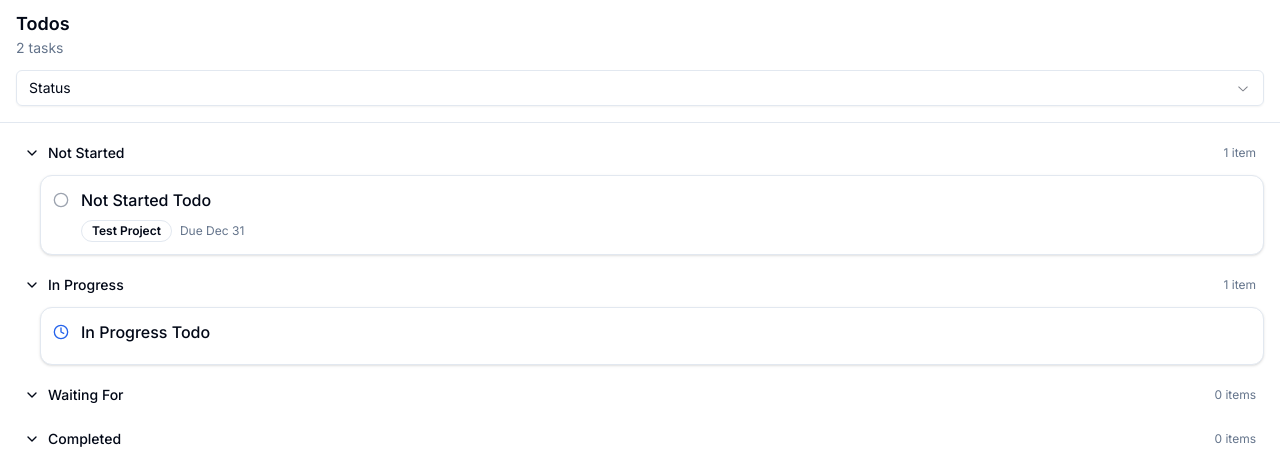
Scenario: TodoListPane - Grouping Feature › can collapse and expand groups
Expected: the heading "Not Started Todo" is shown, [81, 190, 211, 210]
// Click to collapse
What coordinates should you click on to do the following:
click the text "Not Started"
I would click on:
 (86, 153)
Its box is [48, 143, 124, 163].
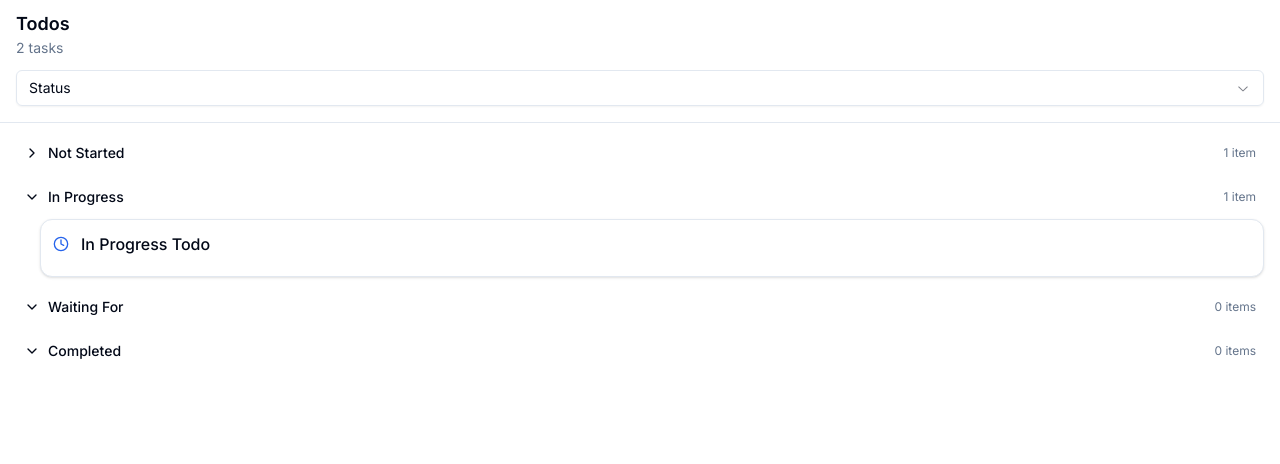
Now the heading "Not Started Todo" is gone
// Click to expand again
What coordinates should you click on to do the following:
click the text "Not Started"
I would click on:
 (86, 153)
Its box is [48, 143, 124, 163].
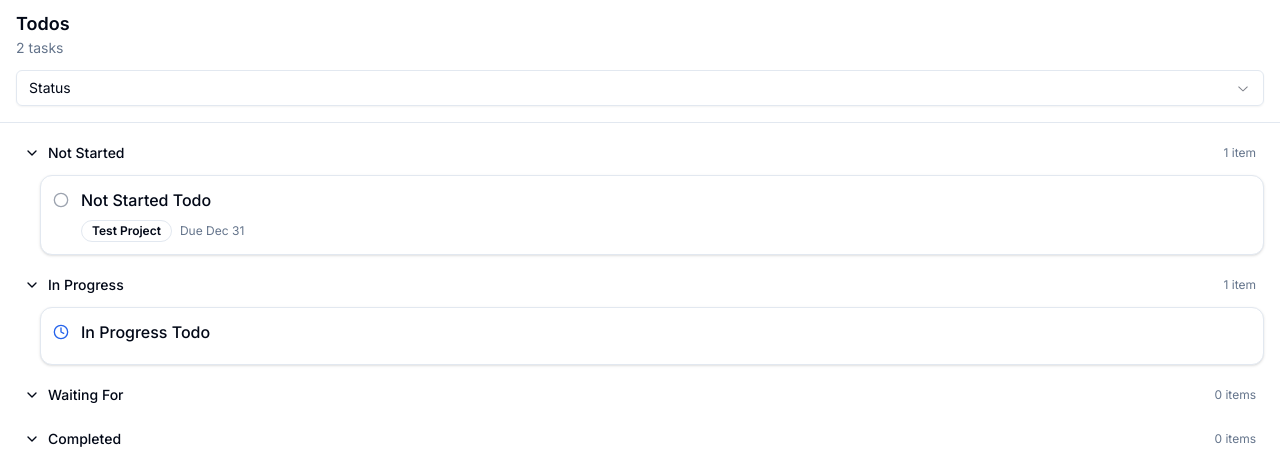
Now the heading "Not Started Todo" is shown, box [81, 190, 211, 210]
